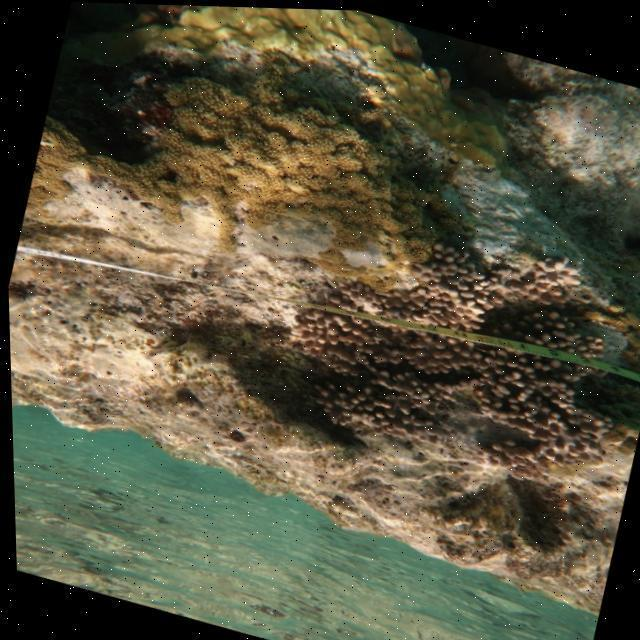Healthy Coral: (115, 52, 445, 290)
